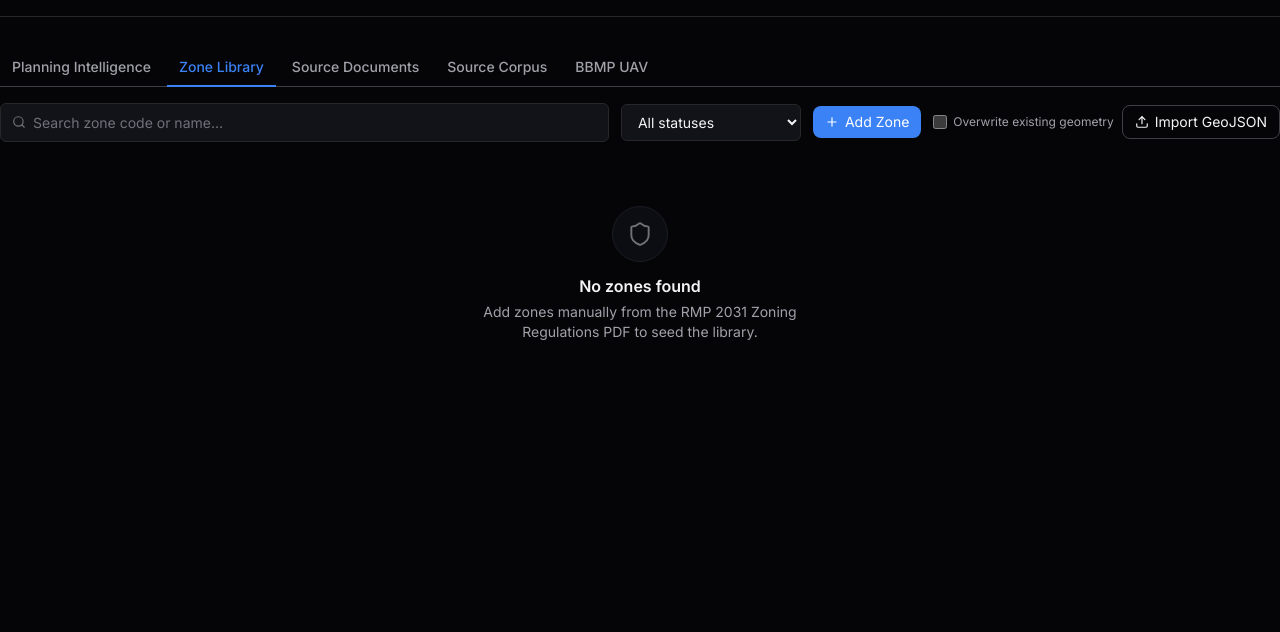
Test: MasterPlanAdminPage source documents › uses server readiness when the source row includes a readiness contract
Click the button "Source Documents".
click(356, 68)  # box left=280, top=49, right=431, bottom=87
(page scrolled)
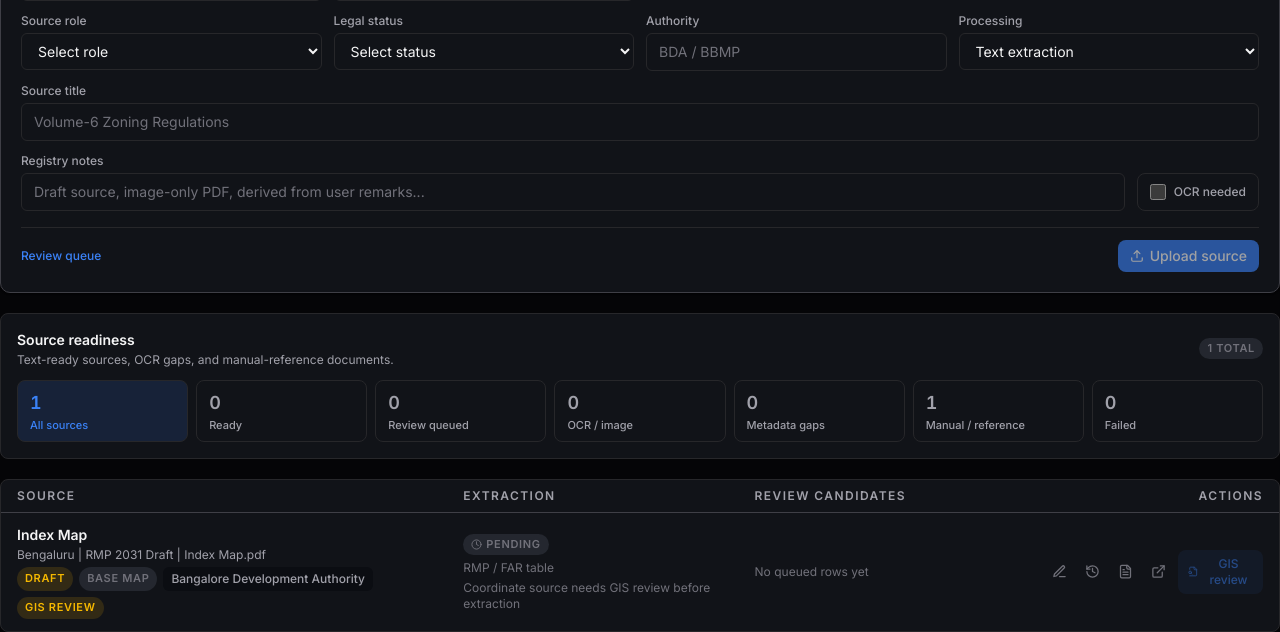
Check: the text "Index Map" is shown, box left=17, top=526, right=87, bottom=543
Check: the text "GIS review" is shown, box left=17, top=597, right=104, bottom=619
Check: the text "Coordinate source needs GIS review before extraction" is shown, box left=463, top=580, right=742, bottom=612
